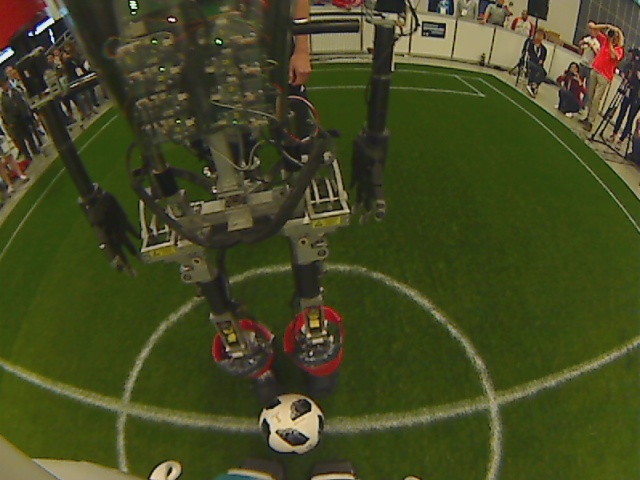ball: (257, 393, 326, 457)
